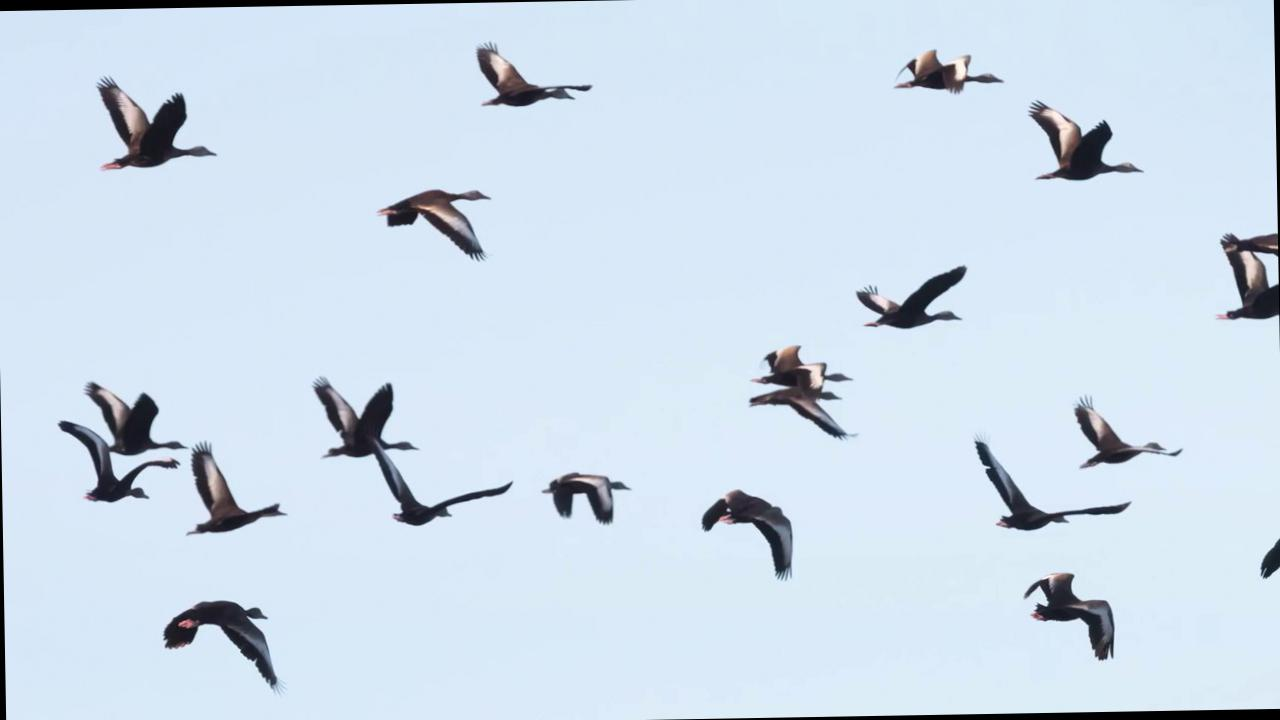bird: (83, 58, 234, 187), (449, 25, 604, 127), (362, 168, 510, 271), (838, 250, 976, 338), (529, 454, 646, 542)
